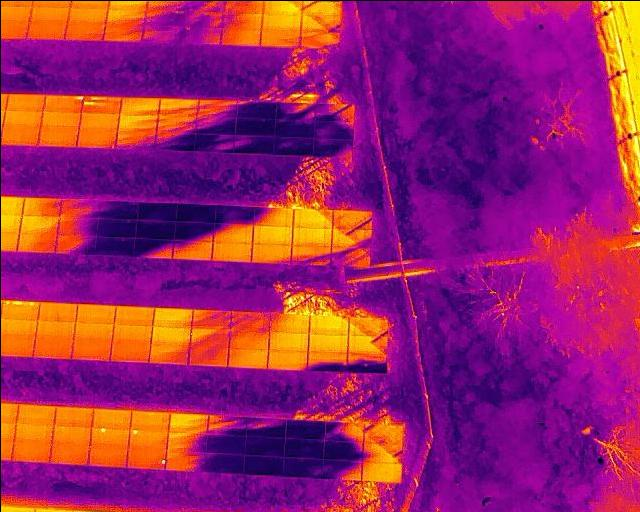Cell: (129, 428, 167, 450), (90, 426, 128, 448), (127, 449, 165, 469), (43, 94, 82, 111)
Cell-Multi: (0, 299, 38, 319), (82, 95, 121, 113)
No-Anomaly: (267, 349, 306, 371), (112, 304, 153, 324), (49, 425, 90, 445), (228, 348, 268, 368), (70, 341, 110, 361), (75, 127, 117, 146), (14, 423, 52, 444), (53, 406, 92, 426), (210, 242, 251, 261), (291, 227, 331, 246), (252, 224, 292, 243), (167, 413, 207, 432), (35, 336, 71, 357), (112, 324, 151, 343), (308, 313, 347, 332), (251, 244, 290, 263), (91, 408, 130, 427), (15, 404, 54, 423), (360, 462, 401, 480), (74, 321, 112, 340), (75, 303, 113, 322), (130, 409, 168, 428), (0, 318, 36, 338), (154, 307, 191, 326), (292, 209, 331, 227), (110, 344, 149, 362), (151, 326, 190, 344), (347, 316, 386, 334), (88, 448, 127, 466), (11, 444, 50, 462), (20, 216, 58, 234), (21, 197, 59, 215), (2, 125, 38, 144), (41, 109, 79, 127), (121, 96, 159, 114), (347, 335, 385, 353), (269, 332, 307, 350), (36, 319, 74, 337), (51, 445, 89, 463), (260, 30, 300, 47), (26, 22, 66, 39), (307, 333, 347, 350), (39, 127, 76, 145), (66, 22, 103, 40), (39, 302, 76, 320), (261, 12, 300, 29), (221, 29, 260, 46), (269, 314, 308, 331), (80, 111, 118, 128), (106, 9, 144, 26), (17, 235, 55, 252), (1, 109, 40, 125), (103, 26, 141, 42), (67, 6, 105, 22), (0, 338, 33, 356), (4, 94, 43, 109), (30, 7, 68, 22)
Shadowing: (330, 245, 369, 267), (362, 422, 402, 443), (282, 457, 323, 477), (313, 137, 352, 158), (149, 343, 188, 364), (229, 327, 268, 348), (346, 352, 386, 372), (306, 350, 346, 370), (189, 327, 229, 347), (56, 234, 96, 254), (167, 432, 205, 453), (173, 221, 212, 241), (213, 223, 252, 243), (274, 117, 313, 137), (204, 454, 245, 473), (187, 346, 228, 365), (154, 131, 194, 150), (273, 137, 313, 156), (194, 115, 234, 134), (289, 247, 329, 266), (323, 440, 363, 459), (283, 438, 323, 457), (204, 434, 244, 453), (331, 209, 370, 228), (213, 205, 252, 224), (244, 456, 283, 475), (230, 311, 269, 330), (192, 309, 231, 328), (171, 240, 210, 259), (133, 238, 172, 257), (244, 437, 283, 456), (135, 219, 173, 238), (97, 217, 135, 236), (324, 422, 362, 441), (253, 207, 293, 225), (233, 135, 273, 153), (313, 119, 353, 137), (234, 117, 274, 135), (321, 460, 361, 478), (361, 444, 401, 462), (284, 421, 324, 439), (330, 227, 369, 245), (136, 203, 175, 221), (300, 29, 339, 47), (165, 453, 204, 471), (245, 418, 284, 436), (220, 12, 261, 29), (195, 134, 233, 152), (116, 129, 154, 147), (96, 237, 134, 255), (313, 102, 353, 119), (157, 96, 197, 113), (57, 217, 96, 234), (117, 113, 156, 130), (197, 98, 236, 115), (301, 12, 340, 29), (176, 204, 214, 221), (157, 113, 195, 130), (275, 101, 313, 118), (207, 417, 245, 434), (96, 202, 136, 218), (180, 28, 220, 44), (58, 201, 97, 217), (236, 101, 275, 117), (141, 26, 180, 42), (181, 12, 220, 28), (144, 11, 181, 26)
